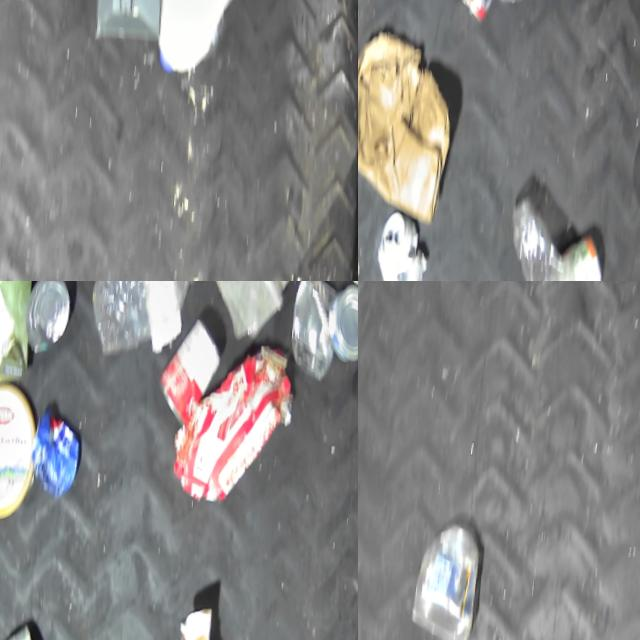can: (153, 314, 224, 429), (284, 281, 344, 387), (23, 405, 84, 504), (368, 209, 431, 281), (18, 281, 73, 359), (321, 281, 358, 369), (562, 232, 605, 281), (456, 0, 502, 26)
milk_jug: (150, 0, 242, 83)
plastic_bottle: (83, 281, 206, 365), (493, 193, 602, 281)
